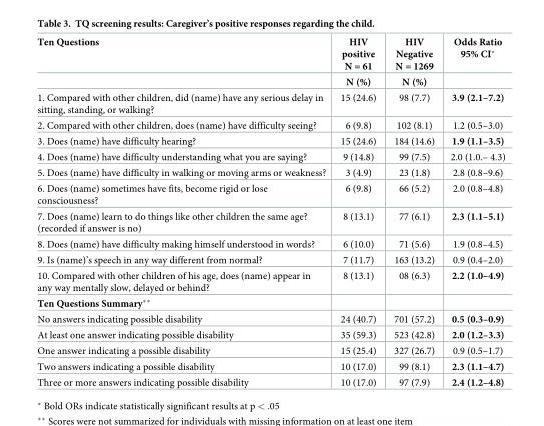table: (36, 36, 504, 387)
table column: (36, 36, 332, 387), (441, 36, 504, 387), (384, 36, 441, 387), (332, 36, 384, 387)
table column header: (36, 36, 504, 89)
table projected row header: (36, 294, 504, 311)
table row: (36, 36, 504, 73), (36, 89, 504, 117), (36, 180, 504, 208), (36, 208, 504, 235), (36, 267, 504, 294), (36, 294, 504, 311), (36, 73, 504, 89), (36, 117, 504, 133), (36, 148, 504, 164), (36, 164, 504, 180), (36, 235, 504, 251), (36, 251, 504, 267), (36, 326, 504, 342), (36, 342, 504, 358), (36, 358, 504, 374), (36, 133, 504, 148), (36, 311, 504, 326), (36, 374, 504, 387)
table spanning cell: (36, 36, 332, 89), (441, 36, 504, 89), (384, 36, 441, 89), (332, 36, 384, 89)
